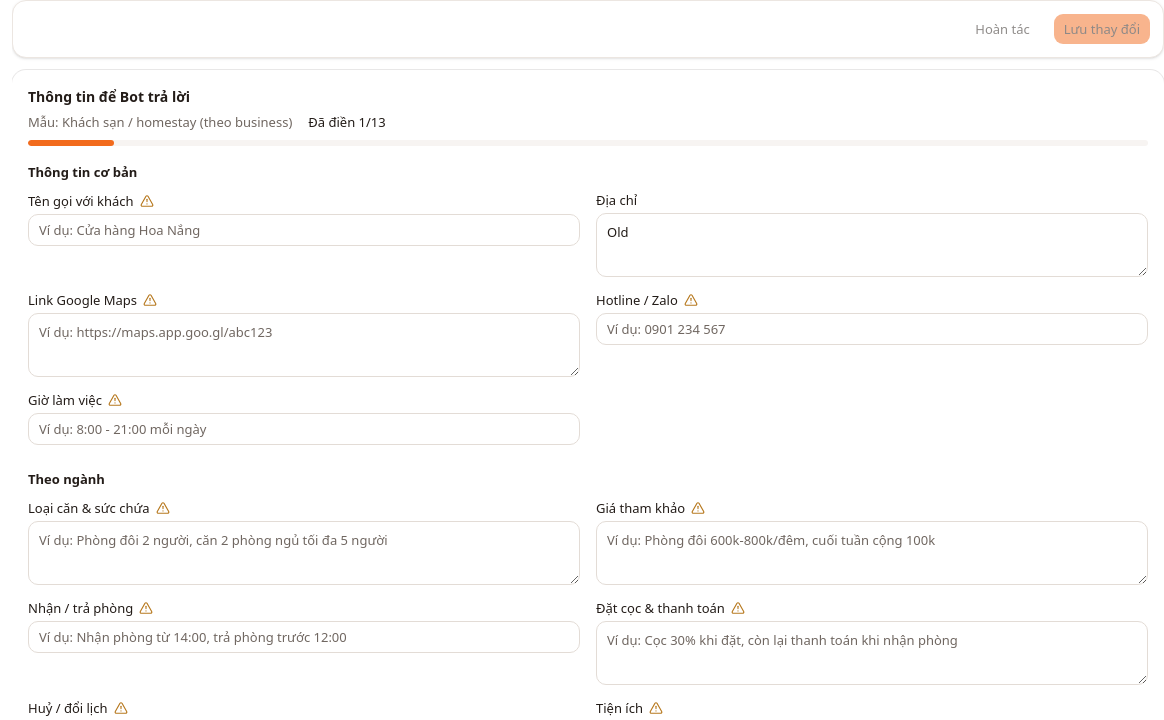
Test: BusinessProfileForm › restores the saved values with Undo
The width and height of the screenshot is (1164, 720).
Expected: the field labelled "Tên gọi với khách" is shown, [28,214,580,246]
In the text box labelled "Địa chỉ": (872,245) [596,213,1148,277], type "!"
(page scrolled)
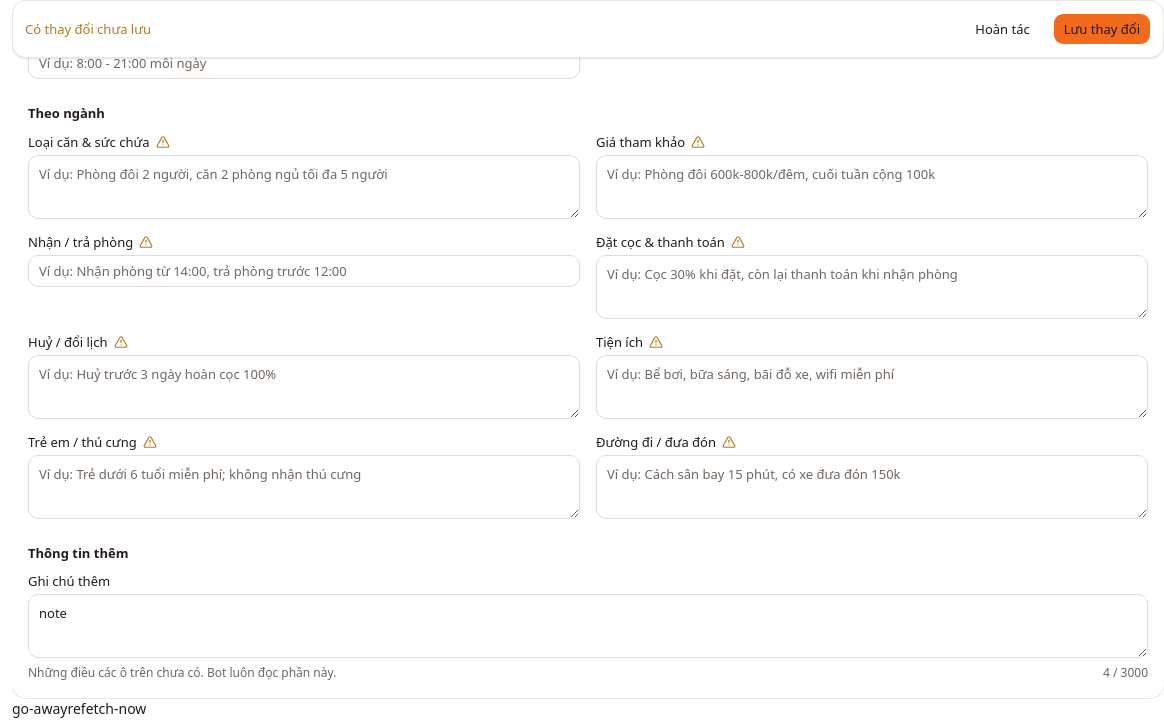
In the text box labelled "Ghi chú thêm": (588,626) [28,594,1148,658], type "?"
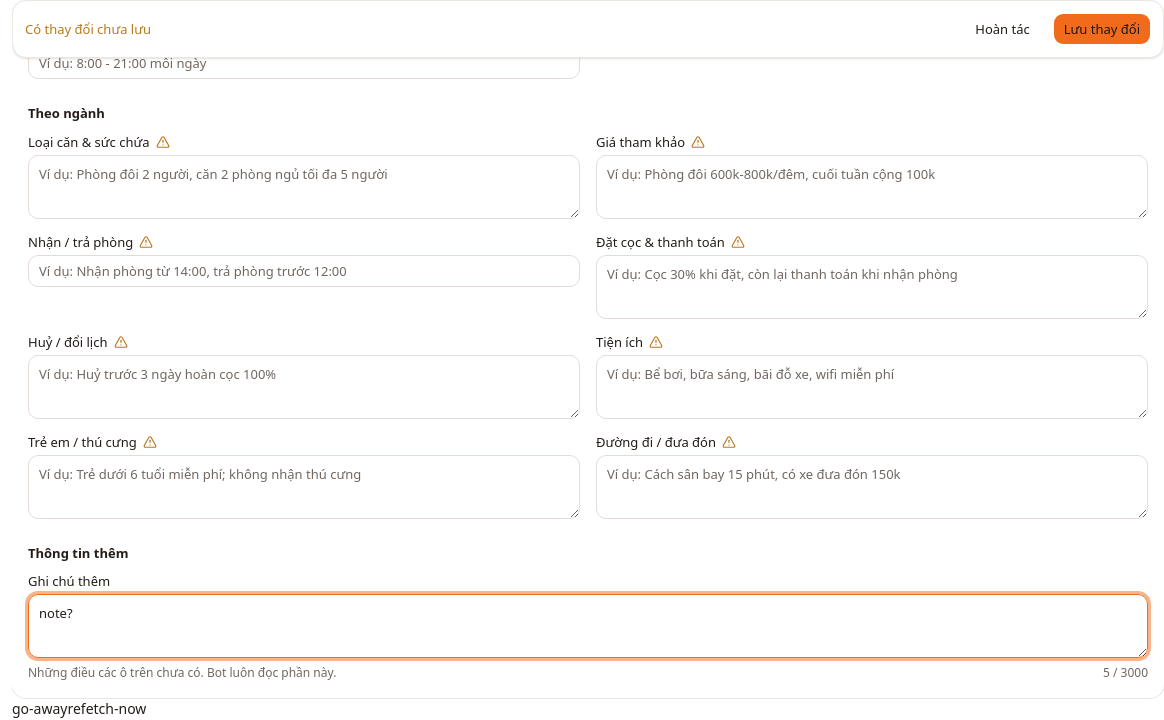
Click the button "Hoàn tác": (1002,29) [964,13,1041,45]
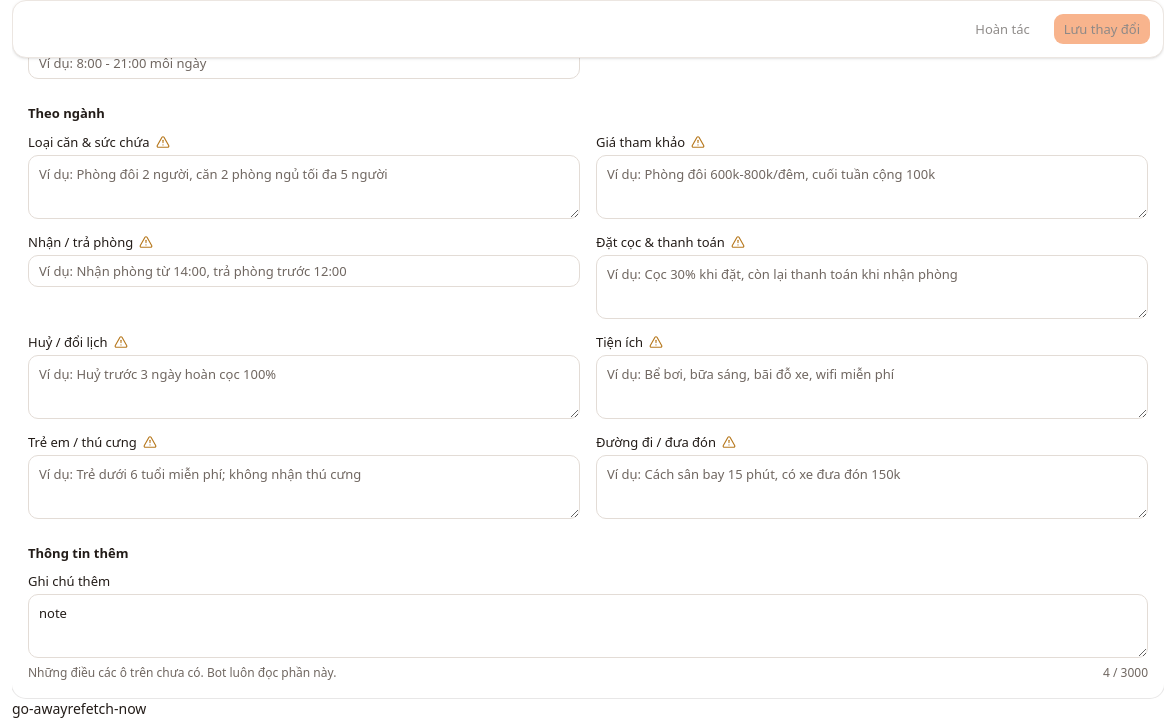
Now the text box labelled "Ghi chú thêm" holds "note", box [28,594,1148,658]
Now the button "Lưu thay đổi" is disabled, box [1053,13,1151,45]
